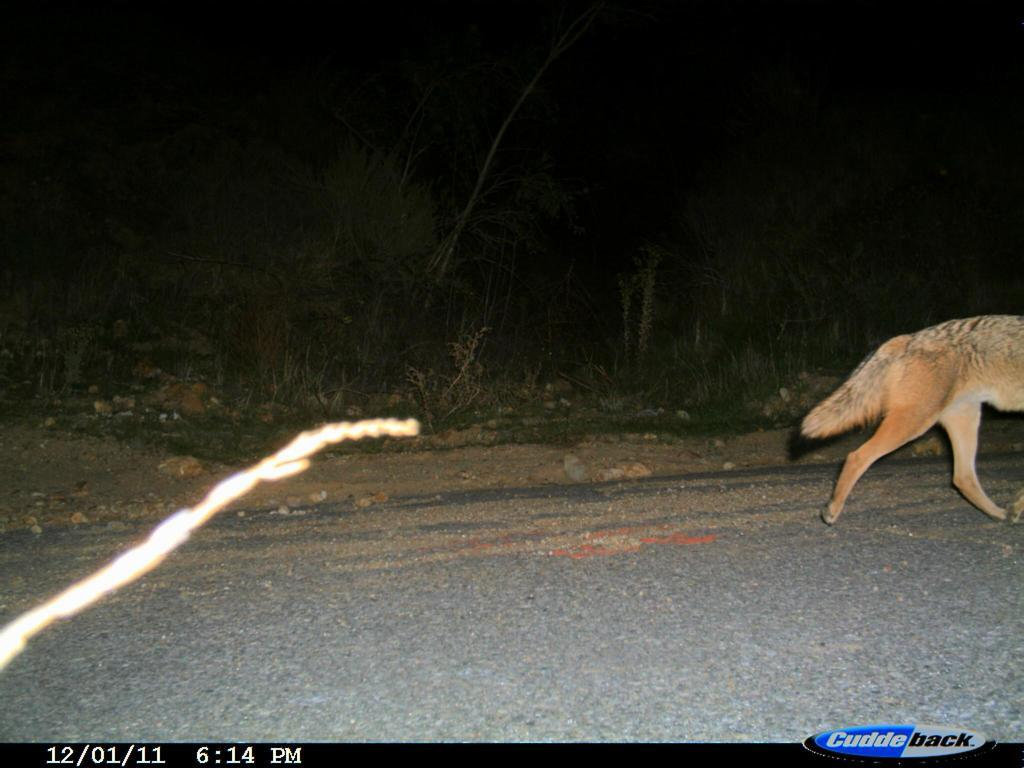coyote: (793, 305, 1024, 532)
